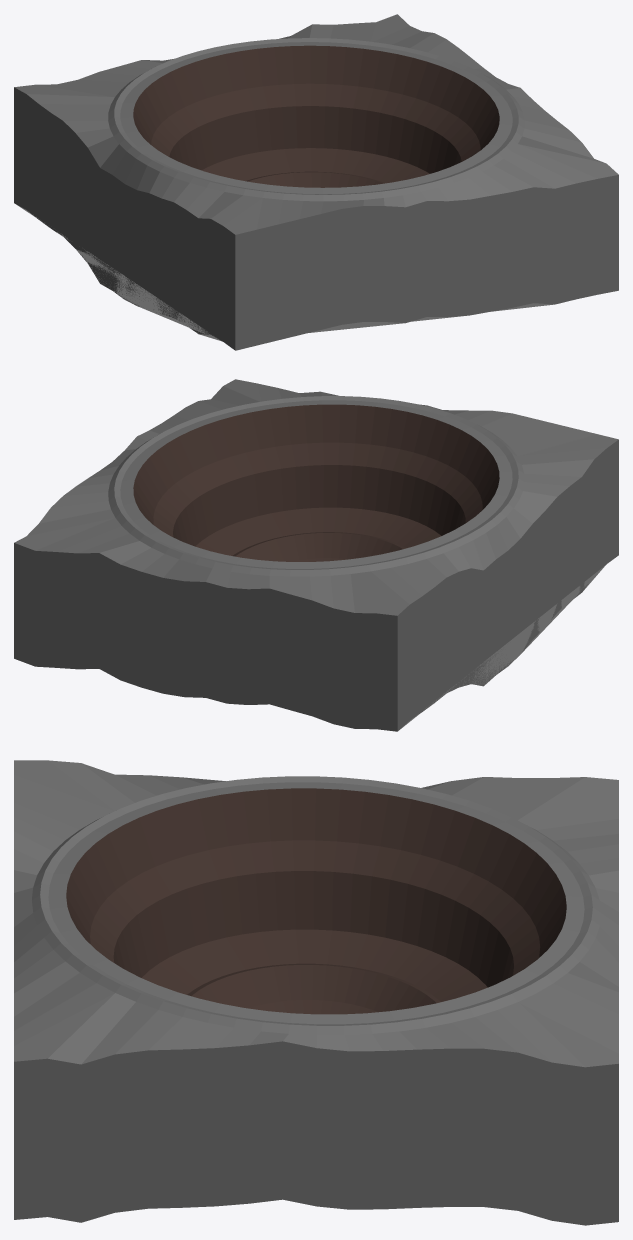
File: Pit Tile Center.fbx
3 views of the same model, one above another, from view 1: azimuth 30°, elevation 25°; view 2: azimuth 150°, elevation 25°; view 3: azimuth 270°, elevation 25° (orthographic). The views are drawn at different scales.
Visible parts, largest first — view 1: Center Pit Tile; view 2: Center Pit Tile; view 3: Center Pit Tile.
Part boxes in pixels (x1=…): Center Pit Tile: x1=14, y1=14, x2=618, y2=350; Center Pit Tile: x1=14, y1=379, x2=618, y2=731; Center Pit Tile: x1=14, y1=760, x2=618, y2=1225.
Size of the model in its own units: 200 by 76.54 by 200.
